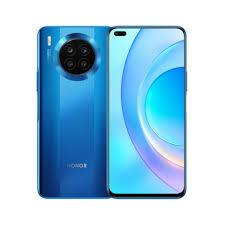Smartphone: (107, 26, 182, 193), (38, 28, 108, 195)
